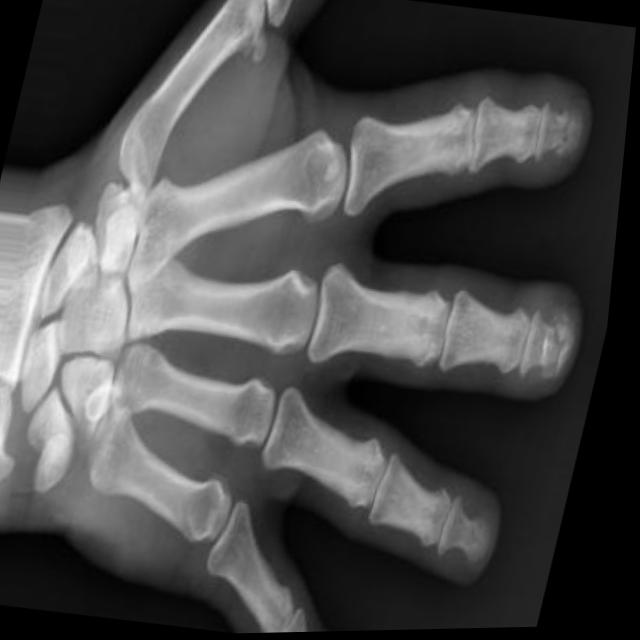fracture: (529, 307, 596, 404), (534, 97, 591, 191)
